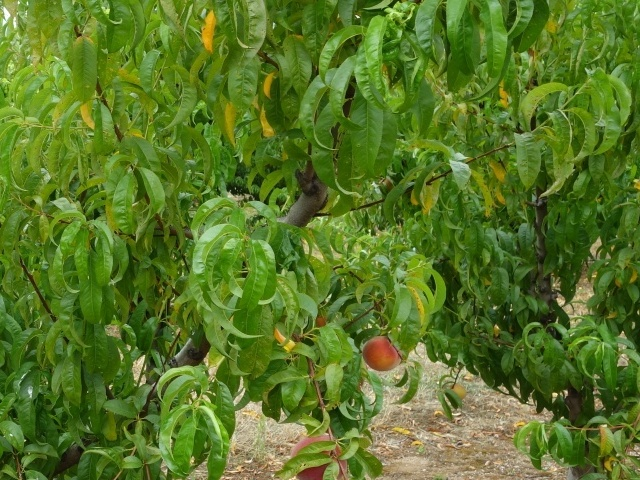peach: (284, 431, 355, 479), (358, 332, 407, 373)
